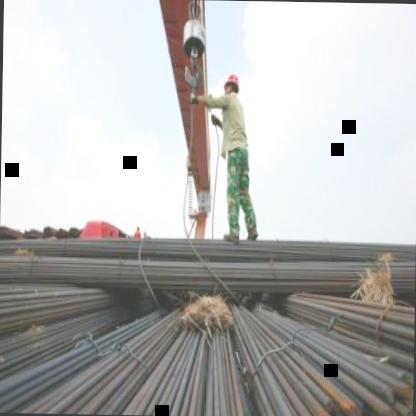helmet: (218, 69, 242, 106)
